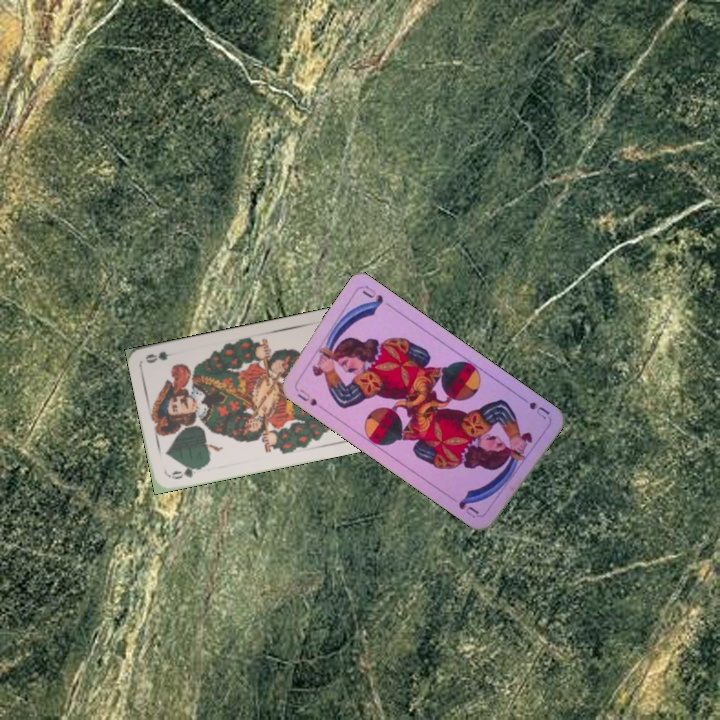GO: (165, 462, 205, 482)
SU: (516, 393, 553, 422), (291, 383, 320, 409)
